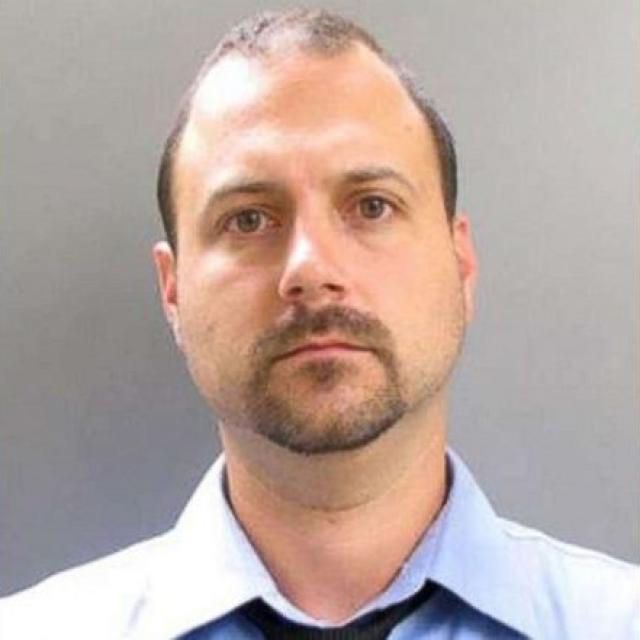human: (19, 4, 640, 639)
